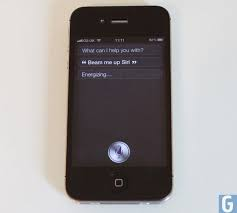iphone4: (62, 1, 177, 208)
